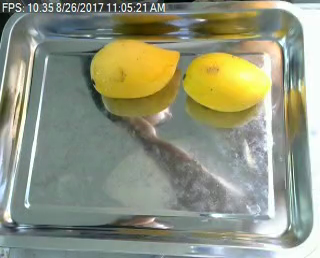Mango: (178, 45, 277, 119), (83, 32, 184, 103)
